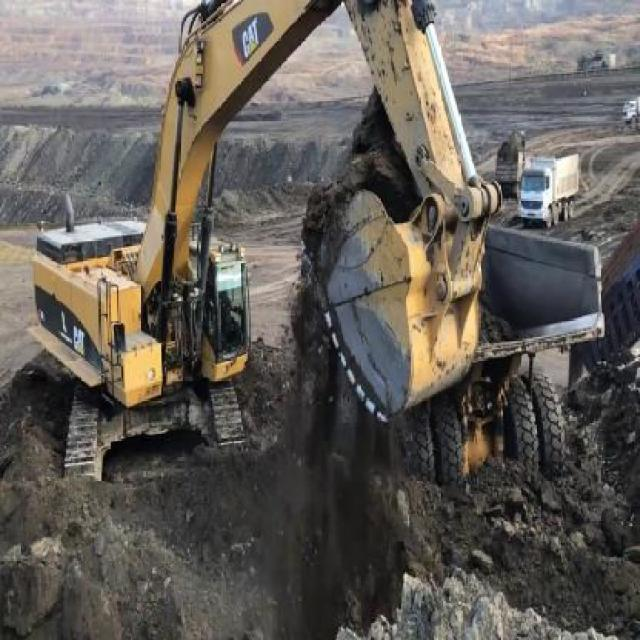Dump Truck: (470, 208, 607, 474), (517, 148, 581, 230), (494, 132, 526, 202)
Excavator: (25, 0, 503, 486)
